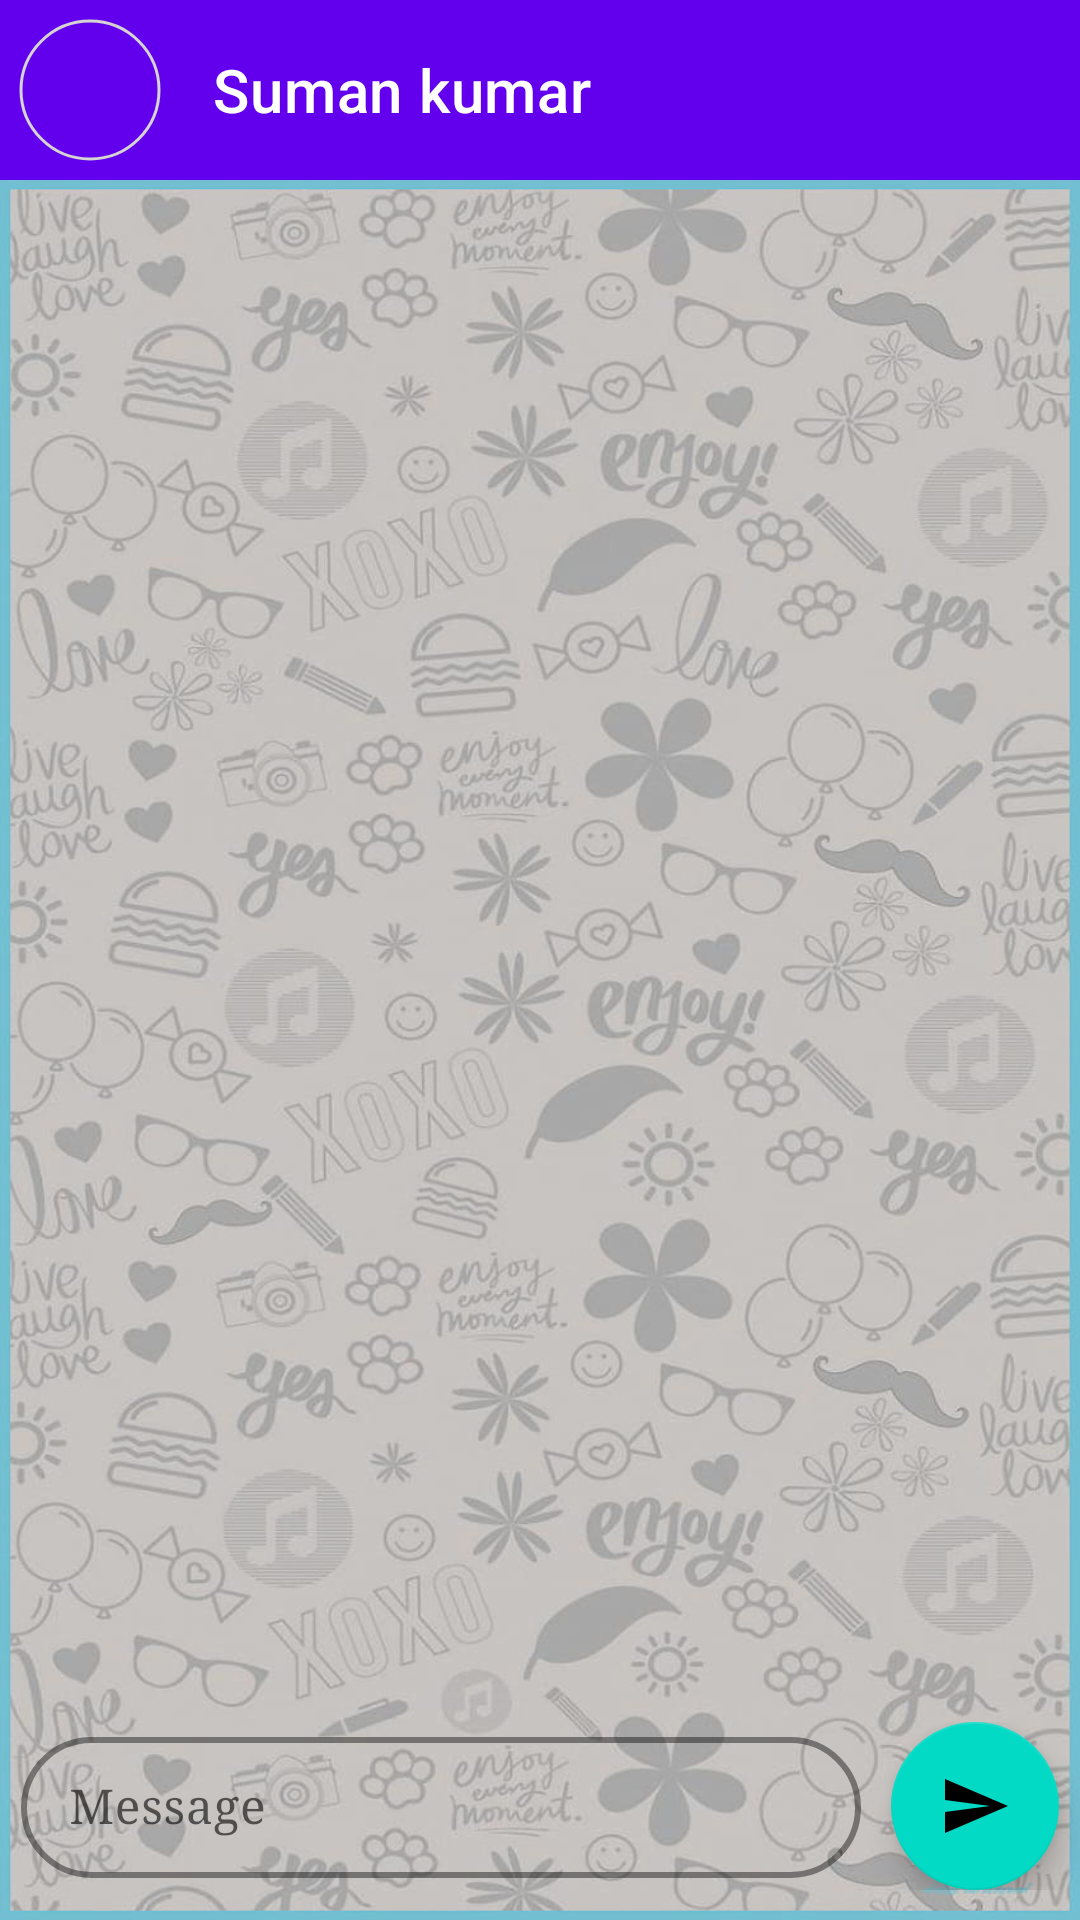

Screen size 1080px x 1920px. Icon name, then its box in pixels as BBox(x1, y1, x2, y2):
send: BBox(891, 1722, 1059, 1890)
